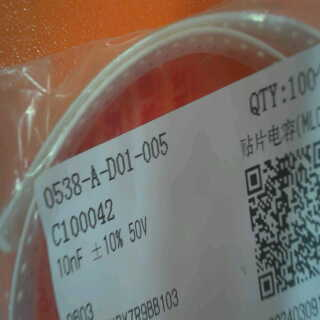10nF: (55, 243, 87, 281)
